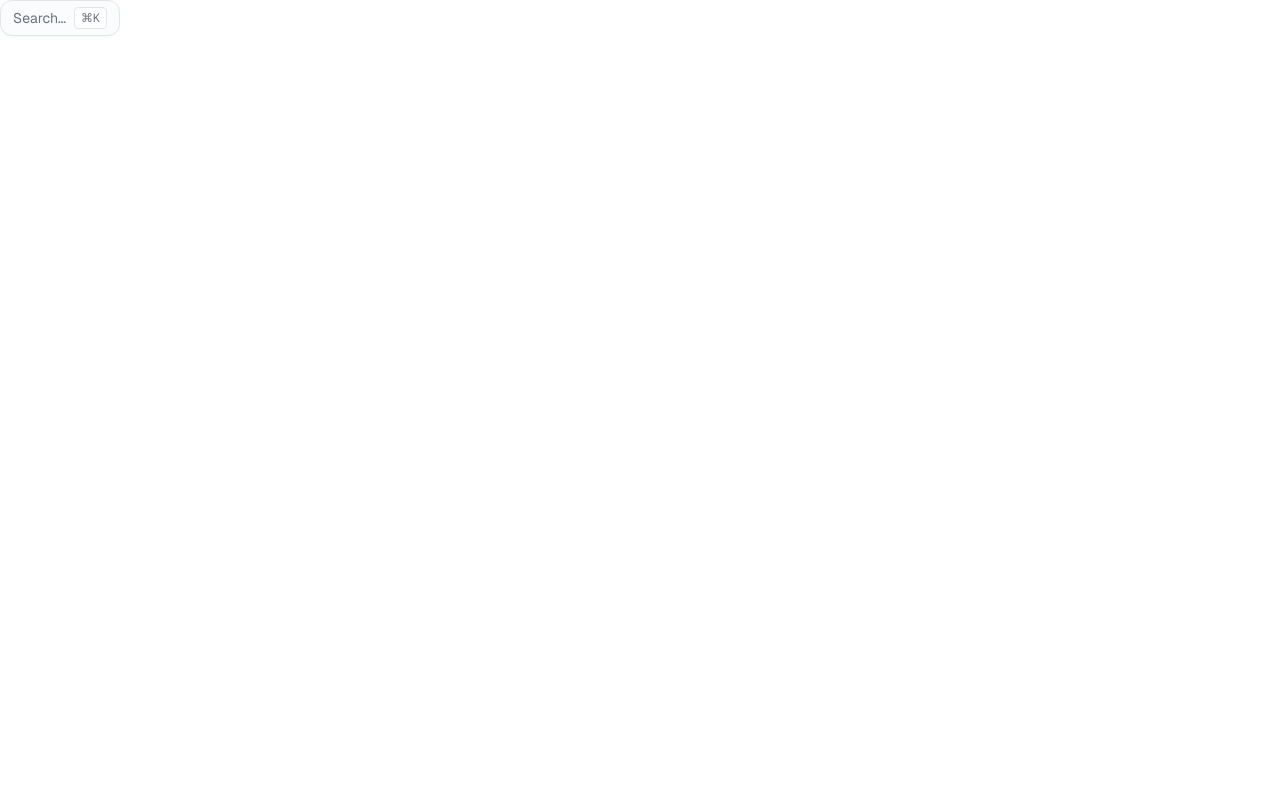
CommandMenu › opens the dialog when the trigger button is clicked
Step 1. Click the button "Search… ⌘K" → (60, 18), box x1=0 y1=0 x2=120 y2=36
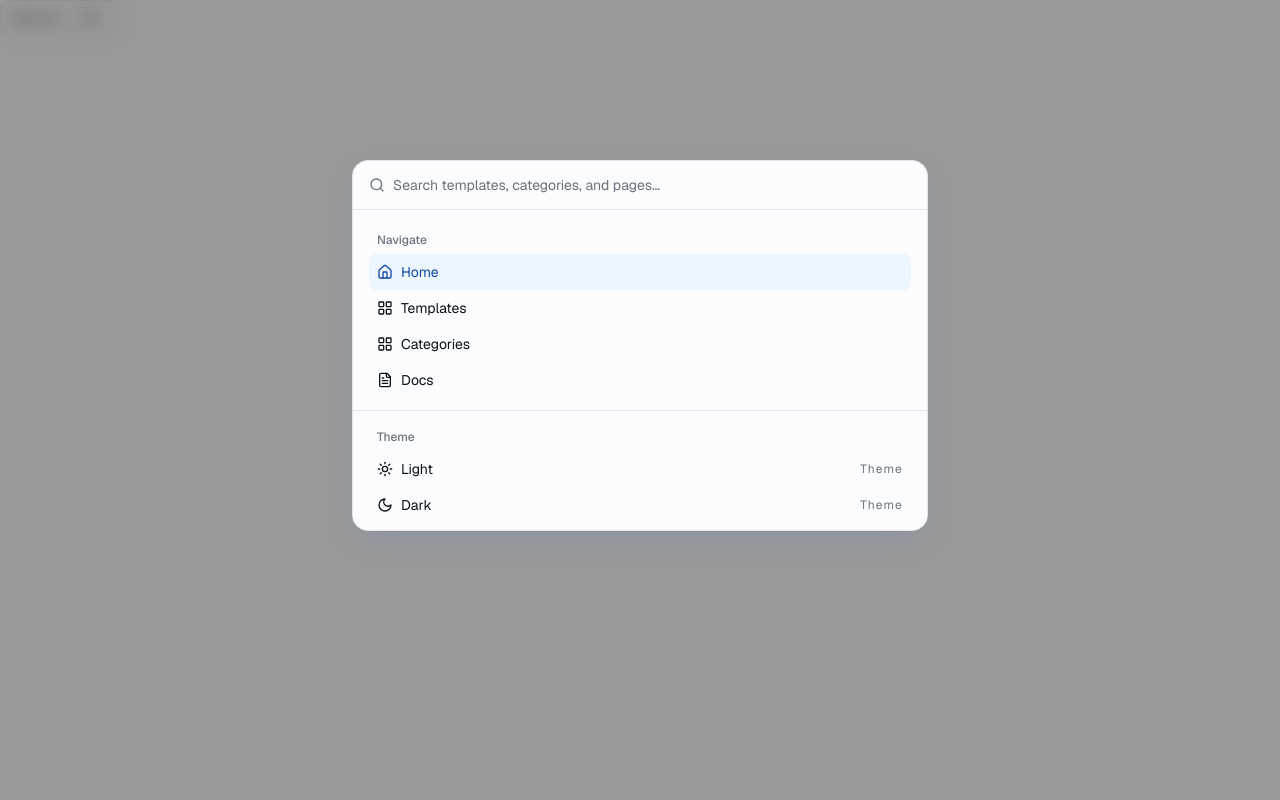
Check: the dialog is shown, box x1=352 y1=160 x2=928 y2=531
Check: the dropdown with placeholder "Search templates, categories, and pages…" is shown, box x1=393 y1=161 x2=911 y2=209
